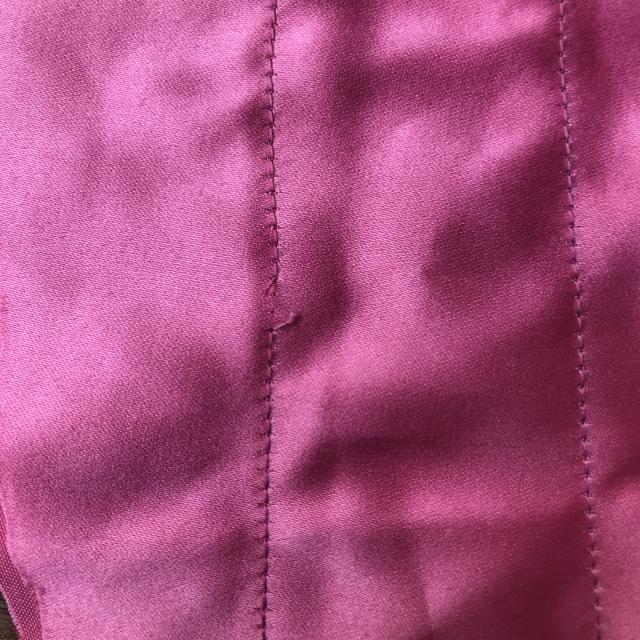broken: (239, 262, 319, 342)
